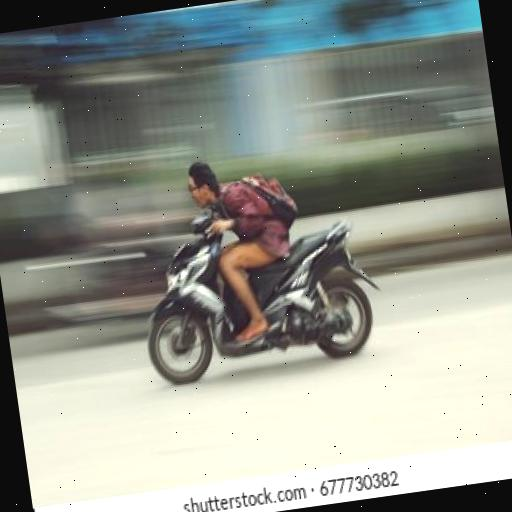no helmet: (141, 110, 402, 400)
